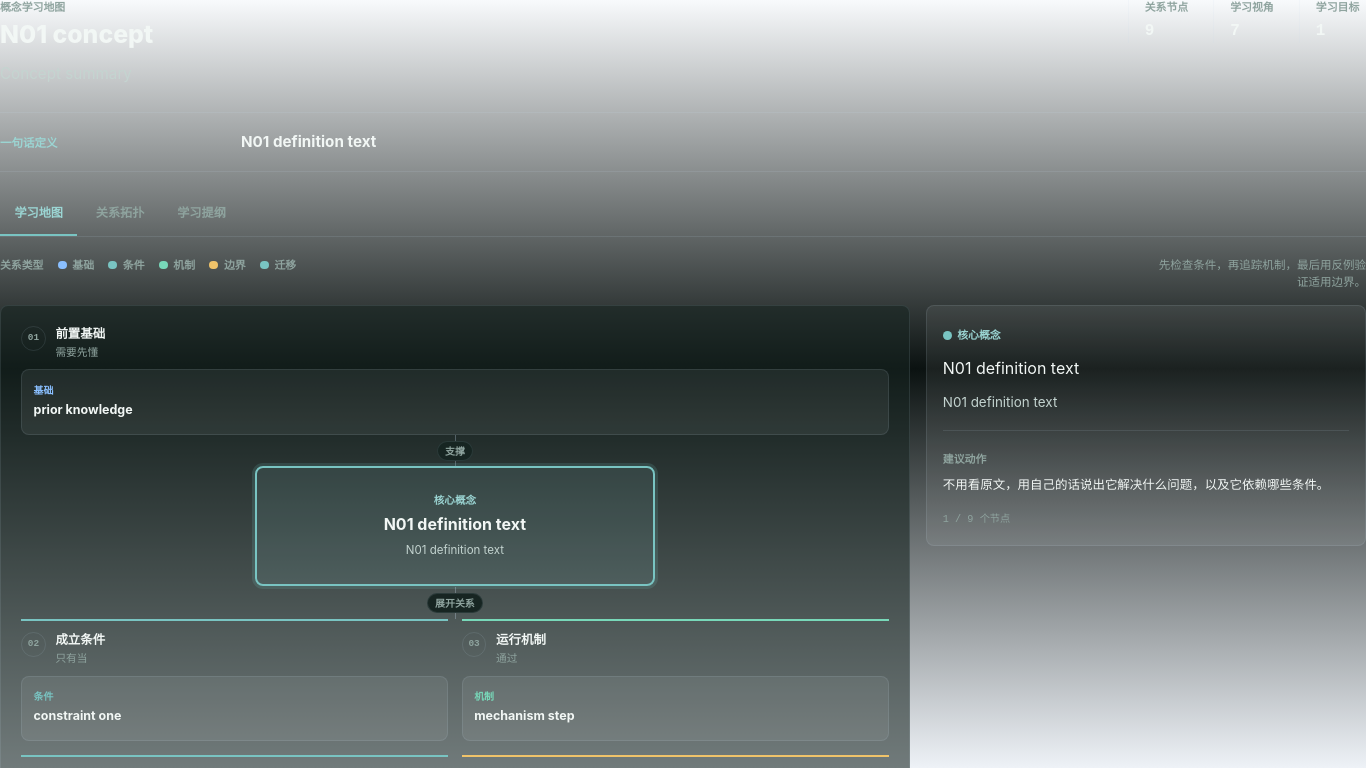
Test: ConceptMapLearning › turns structured concept fields into a branching learning map
This screenshot has width=1366, height=768.
Click the button with aria-label "通过：mechanism step" at (524,716), box [462, 676, 889, 741]
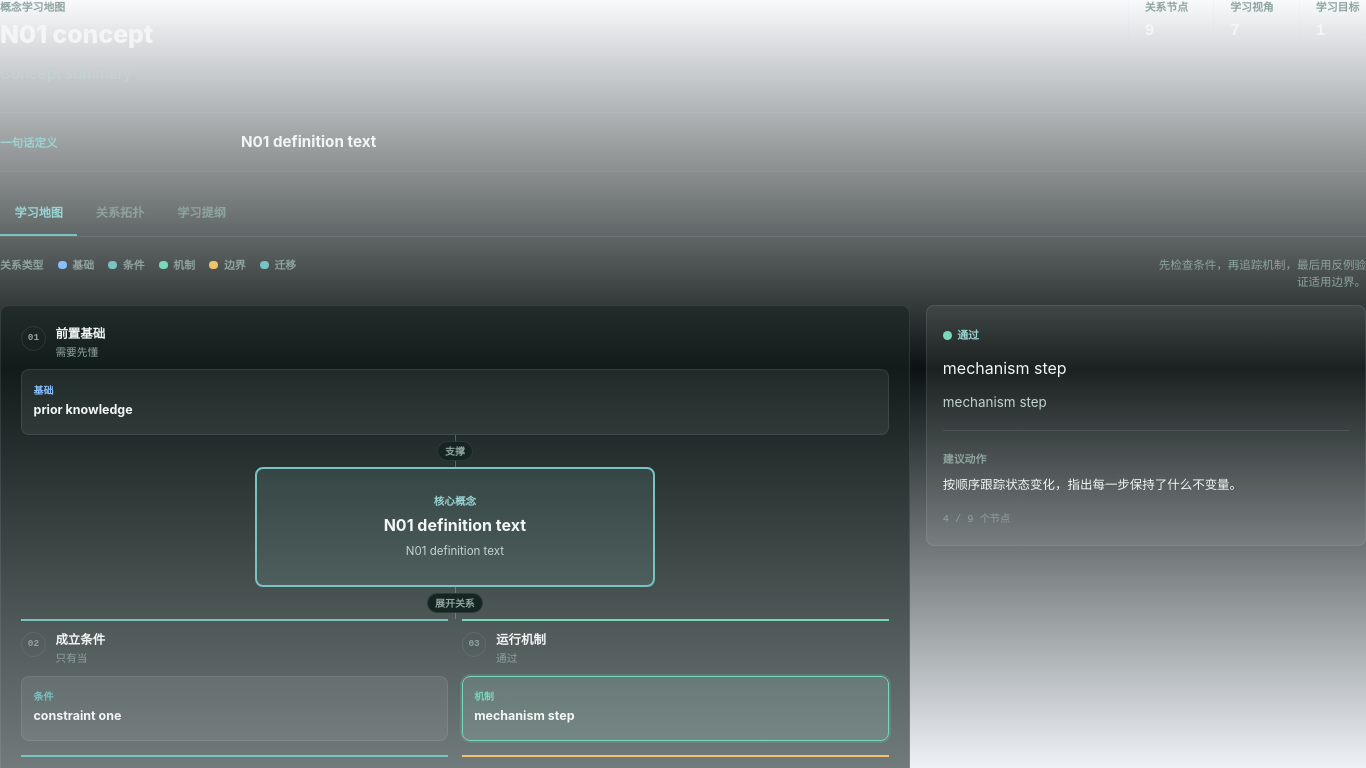
Expected: the element with class "concept-map__detail" shows "mechanism step", [943, 358, 1067, 378]
Click the tab "学习提纲" at (202,214), box [163, 192, 240, 236]
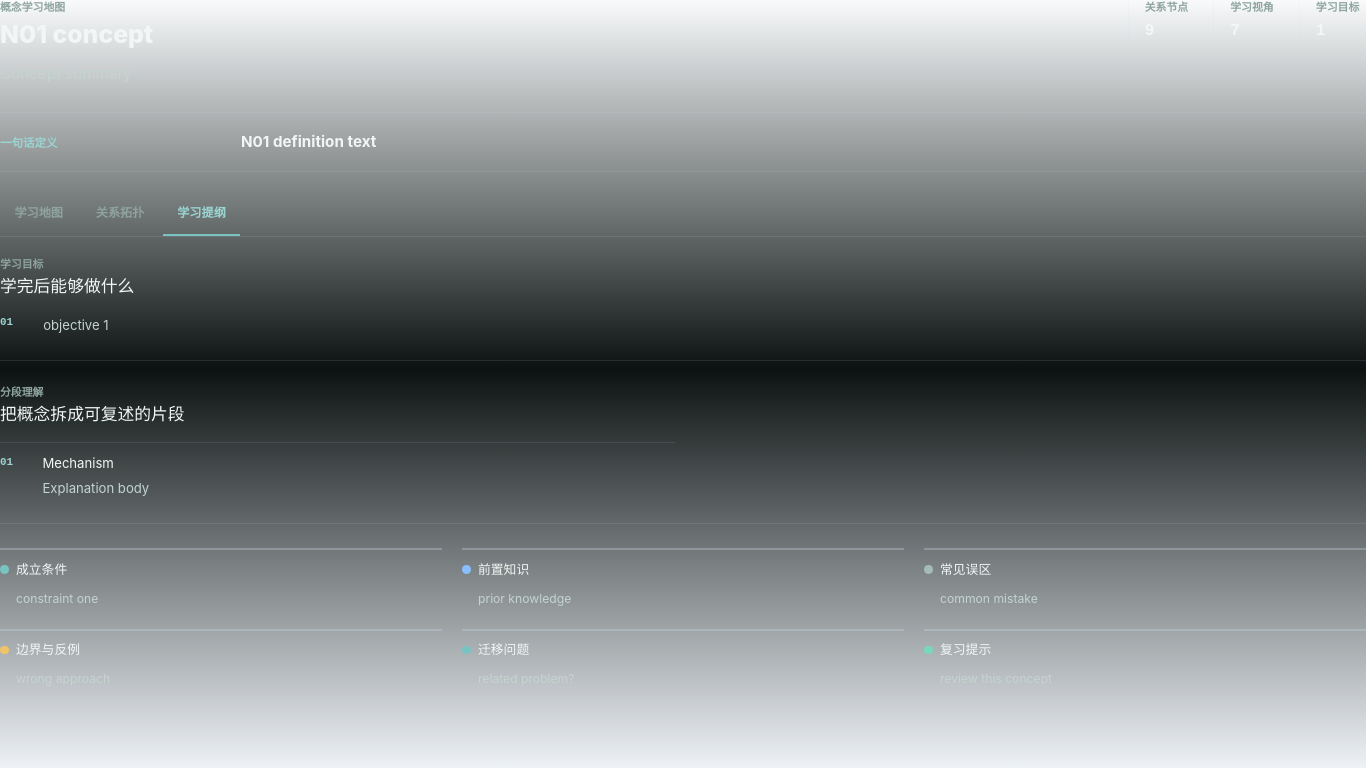
Expected: the panel shows "学习目标", [0, 257, 44, 271]
